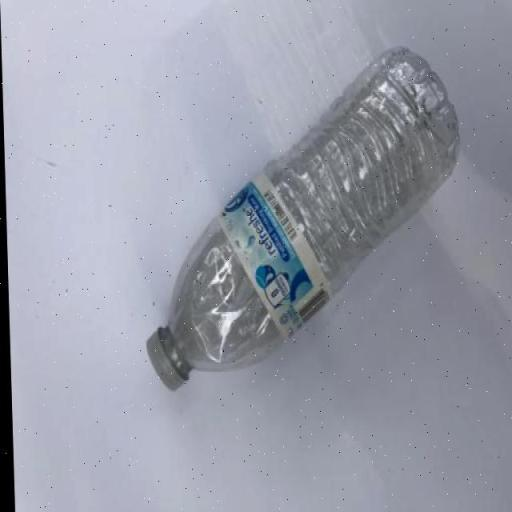plastic: (136, 44, 465, 396)
